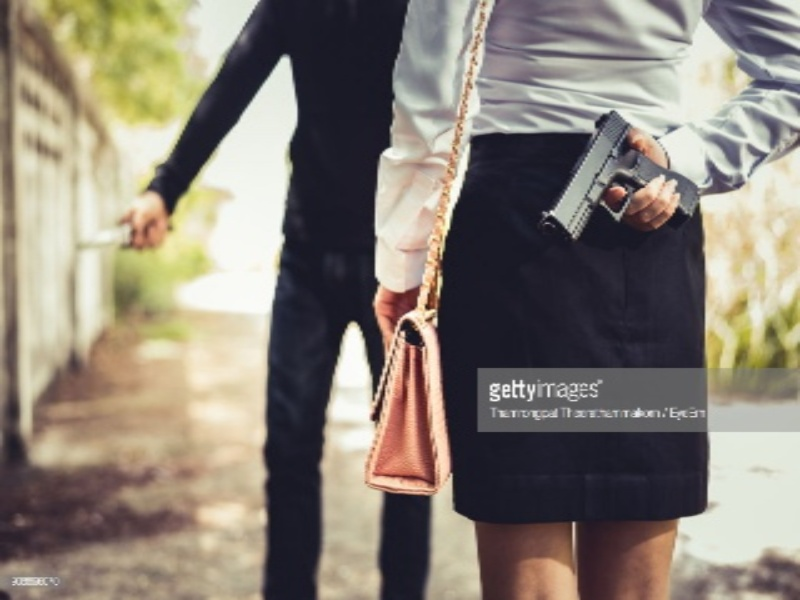person: (373, 1, 800, 600), (115, 1, 434, 600)
weapon: (539, 110, 702, 242)
